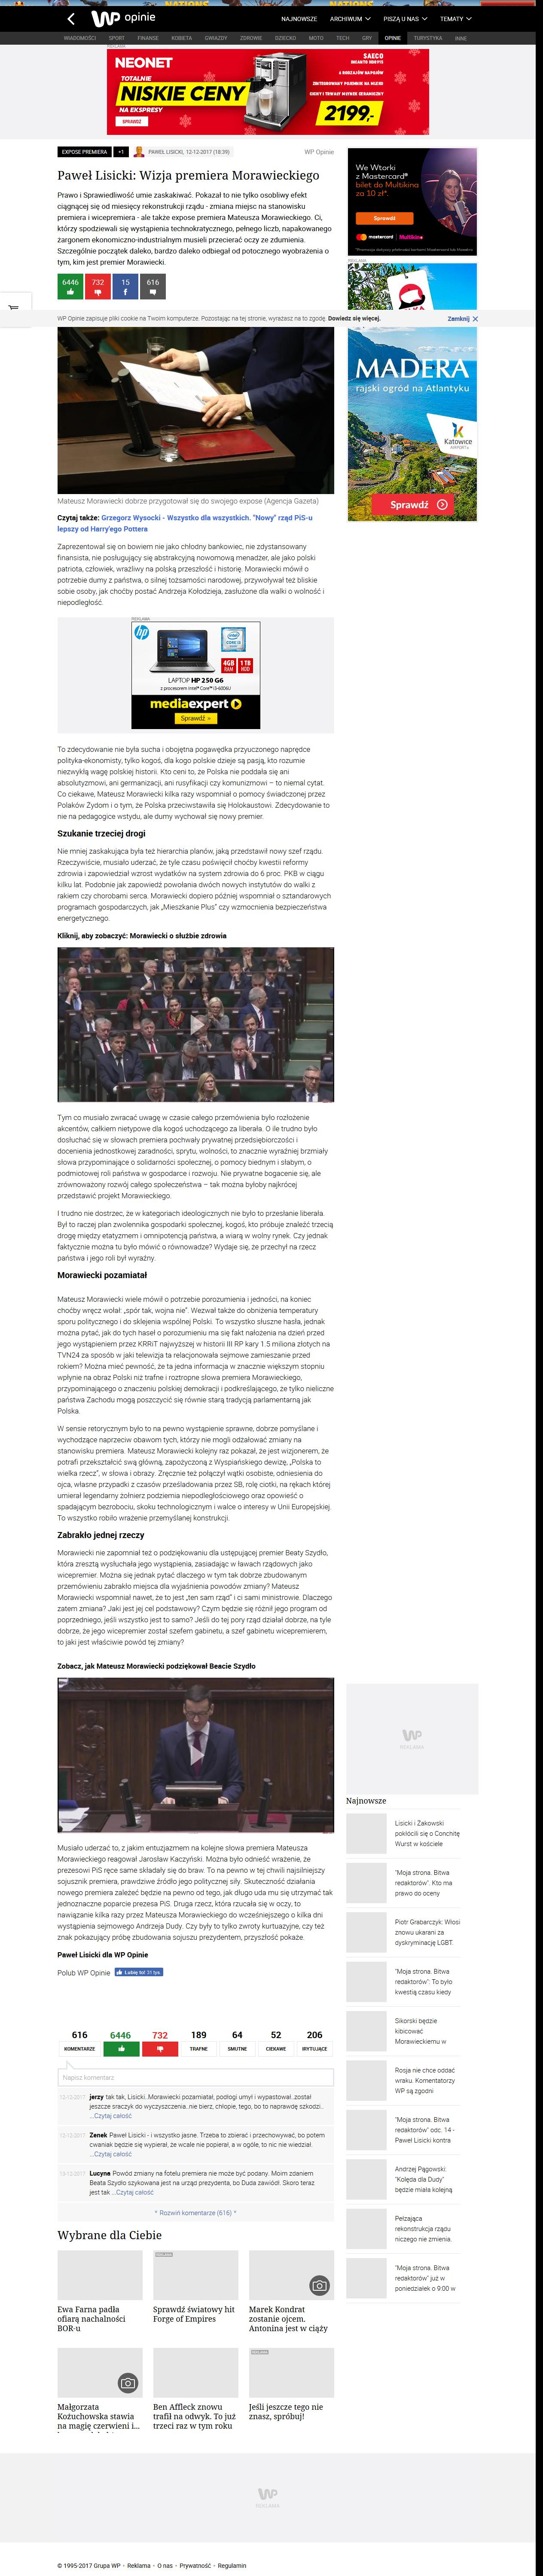title: (57, 169, 320, 184)
